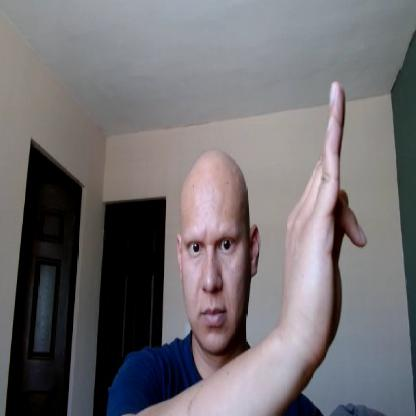F: (281, 80, 367, 358)
